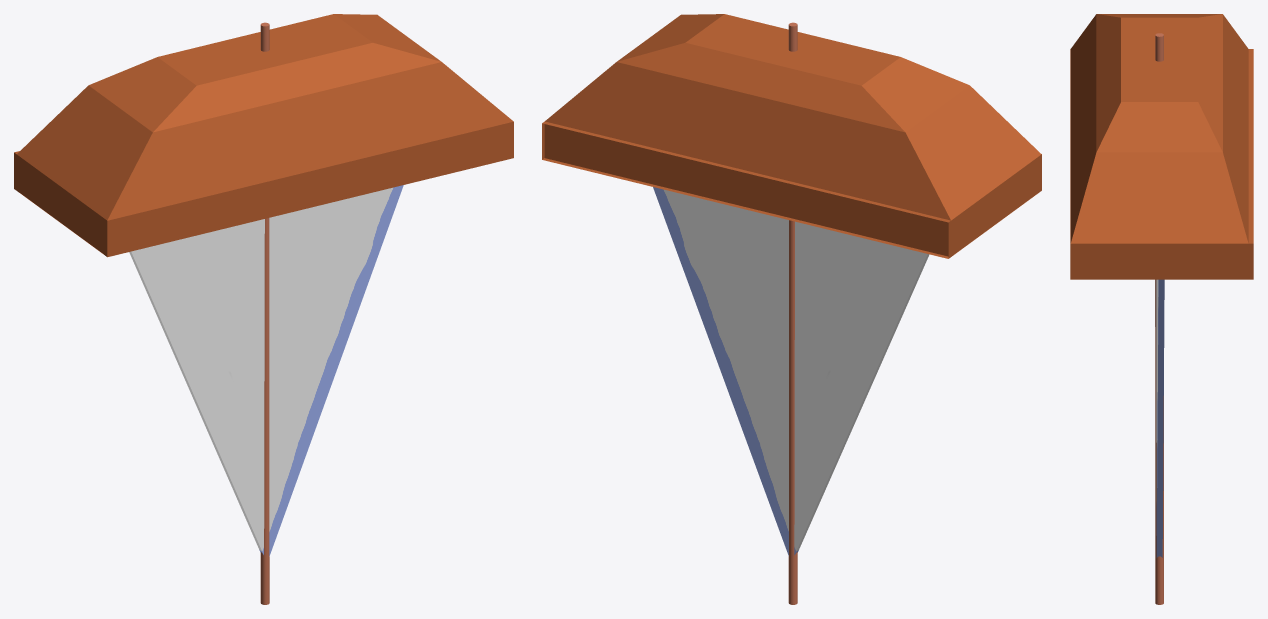
File: boat.glb
The picture shows the model from 3 angles, left to right: view 1: azimuth 30°, elevation 25°; view 2: azimuth 150°, elevation 25°; view 3: azimuth 270°, elevation 25°; orthographic projection.
Visible parts, largest first — view 1: Cube, Plane, Cylinder; view 2: Cube, Plane, Cylinder; view 3: Cube, Plane, Cylinder.
Boxes of the visible parts, x1,y1,x2,y2 form: Cube: (14, 14, 513, 257); Plane: (129, 185, 403, 556); Cylinder: (260, 22, 269, 604); Cube: (542, 14, 1041, 258); Plane: (653, 187, 929, 555); Cylinder: (788, 22, 797, 604); Cube: (1070, 14, 1253, 279); Plane: (1155, 279, 1164, 557); Cylinder: (1155, 33, 1163, 604).
Size of the model in its own units: 7.71 by 10.49 by 3.07.
3 materials, 1 textured.
